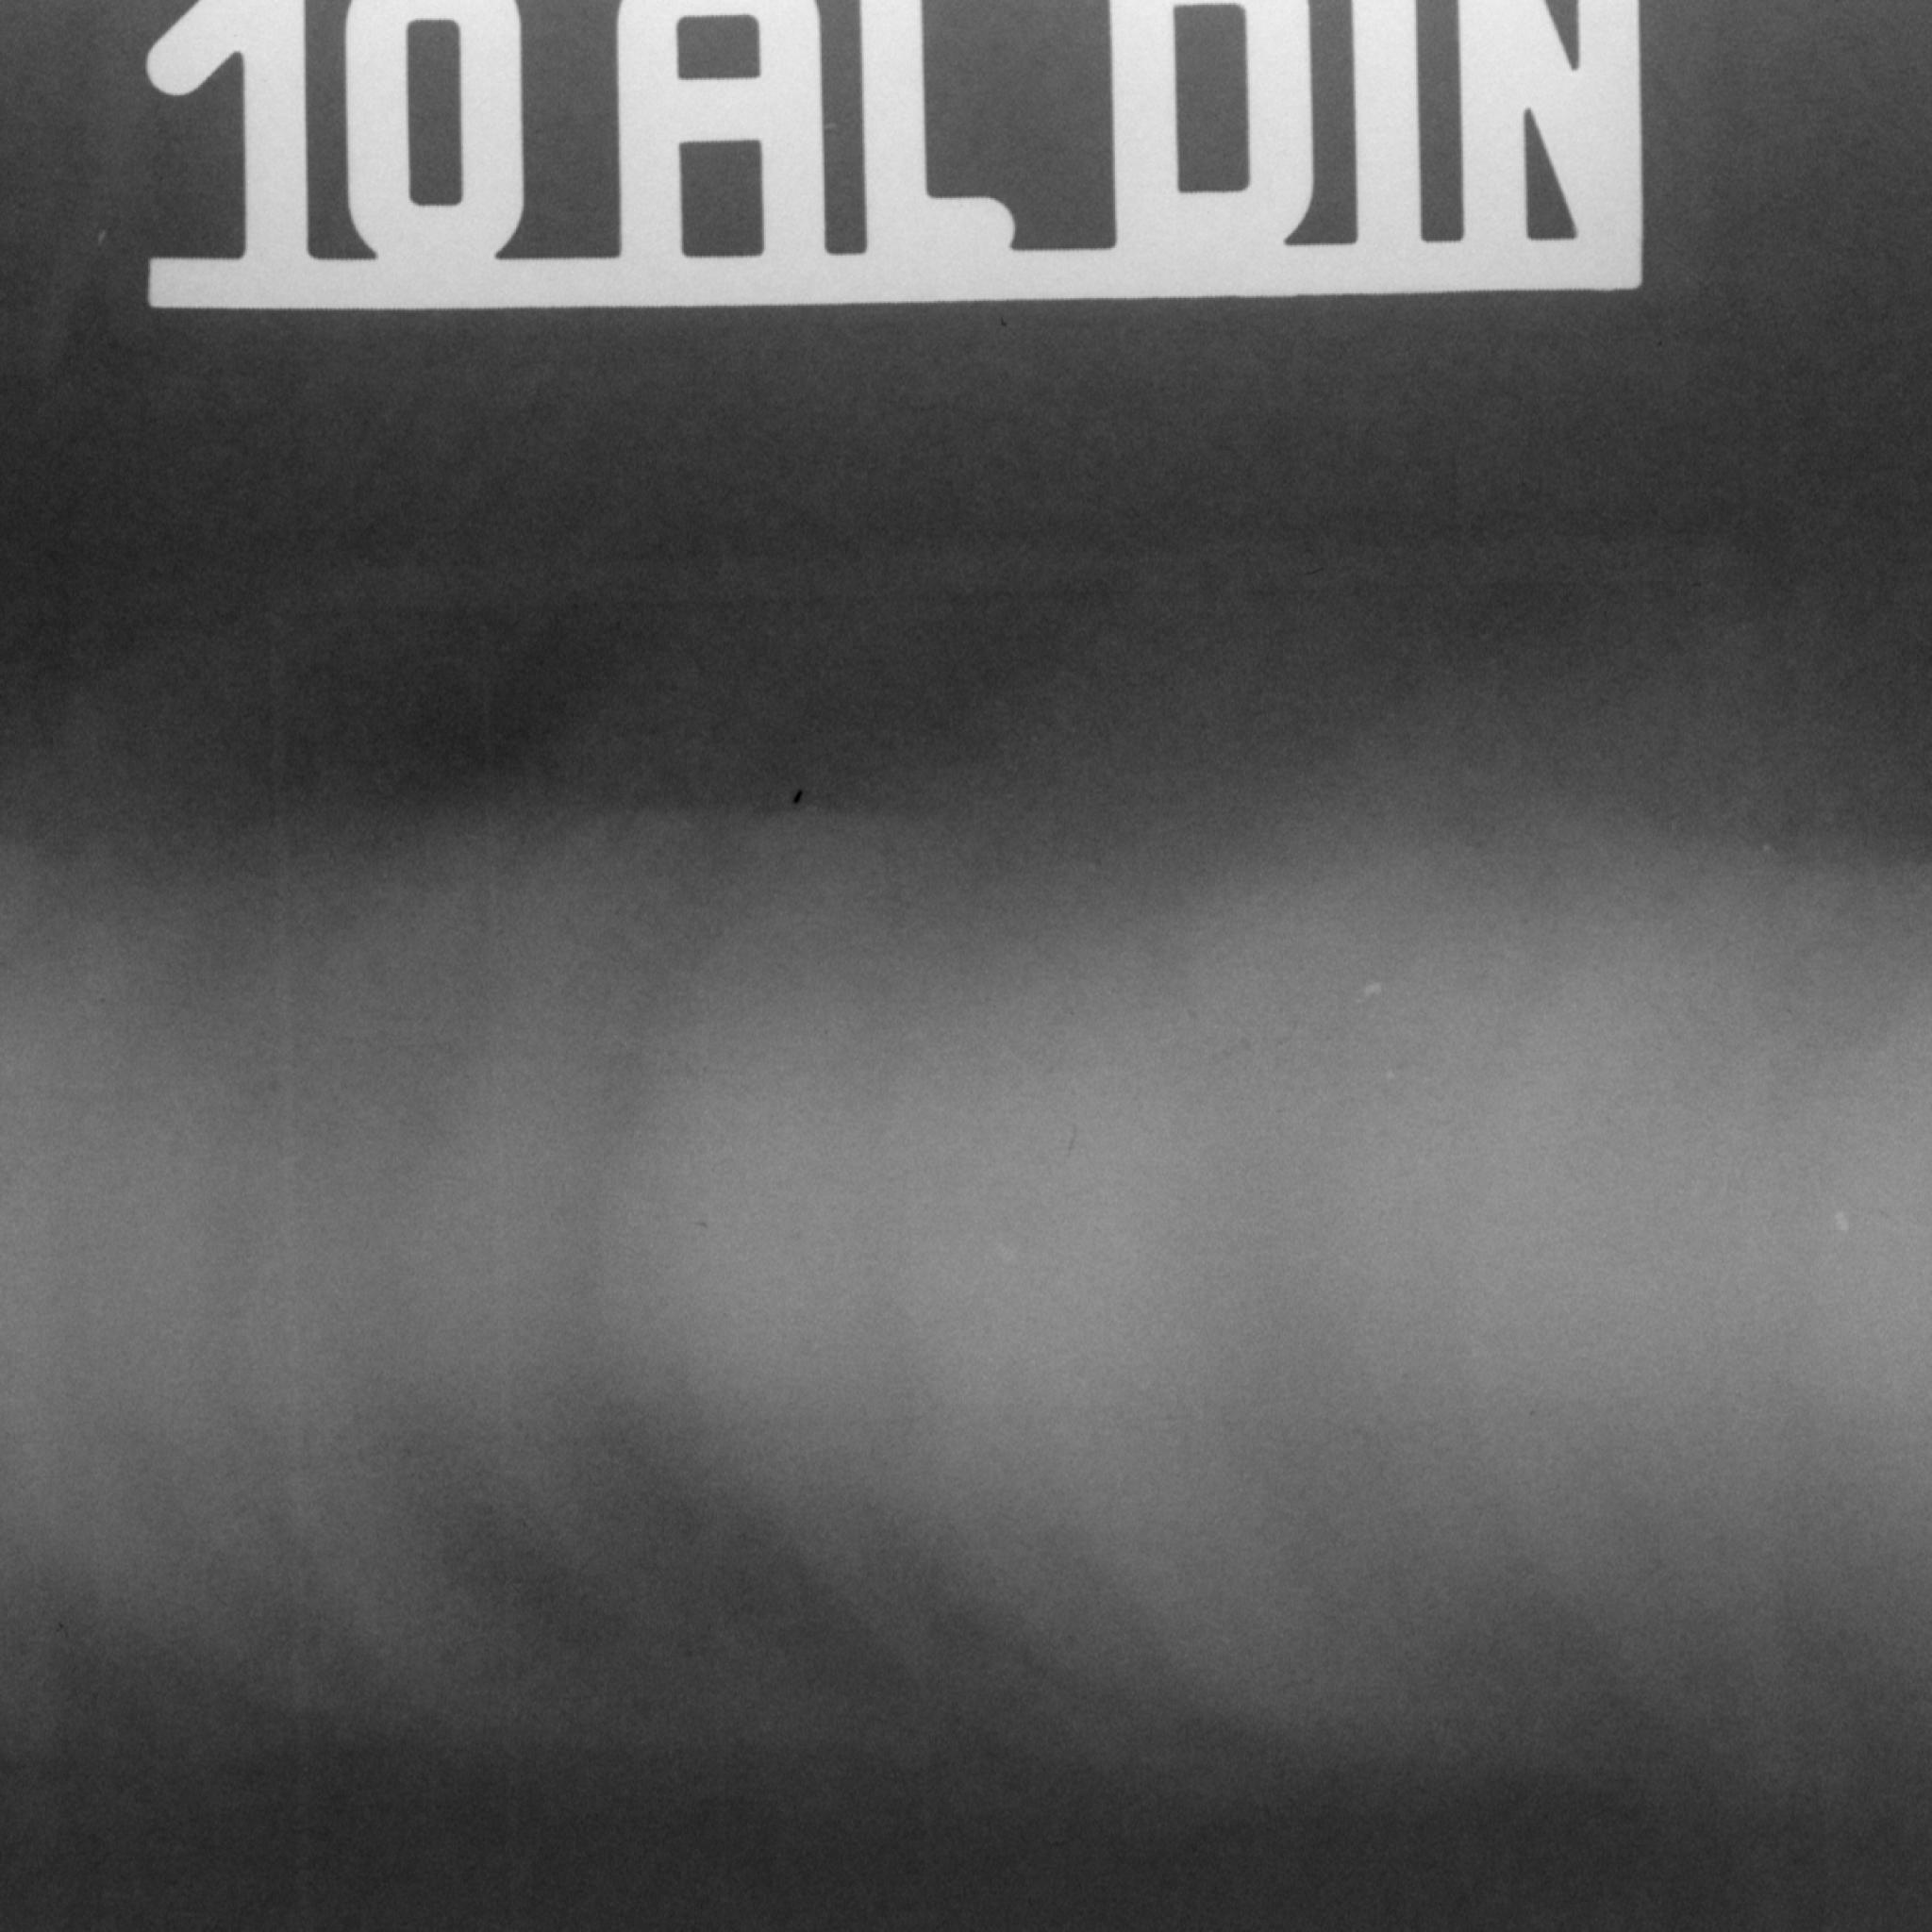MR: (5, 481, 1783, 671)
PO: (775, 778, 817, 816)
